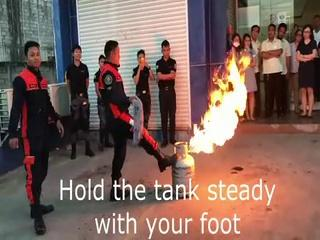Fire: (185, 54, 252, 153)
